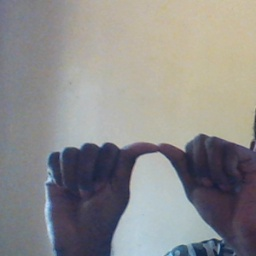A: (54, 125, 246, 228)
